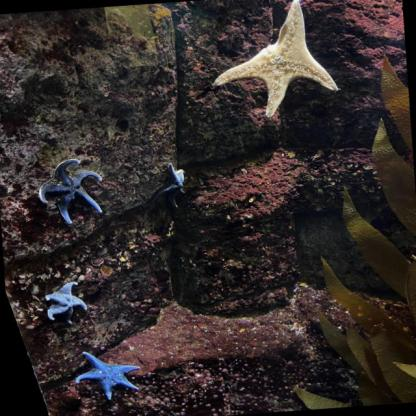starfish: (209, 0, 341, 121), (36, 156, 104, 226), (74, 349, 141, 401), (45, 281, 86, 324), (149, 163, 186, 209)
